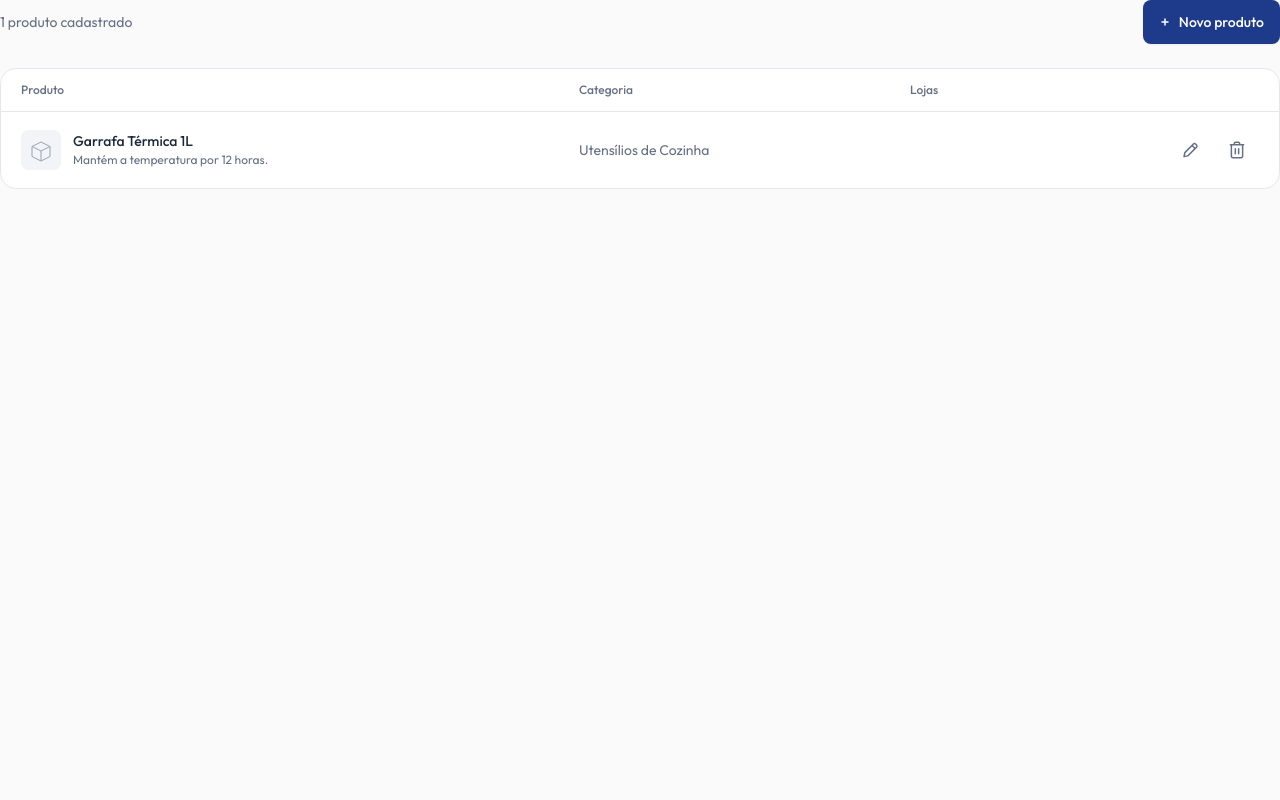
Test: ProductAdminPanel › keeps the product with a message when the api fails to delete it
The width and height of the screenshot is (1280, 800).
Click the button named "Apagar Garrafa Térmica 1L": x=1237, y=150 [1215, 128, 1259, 172]
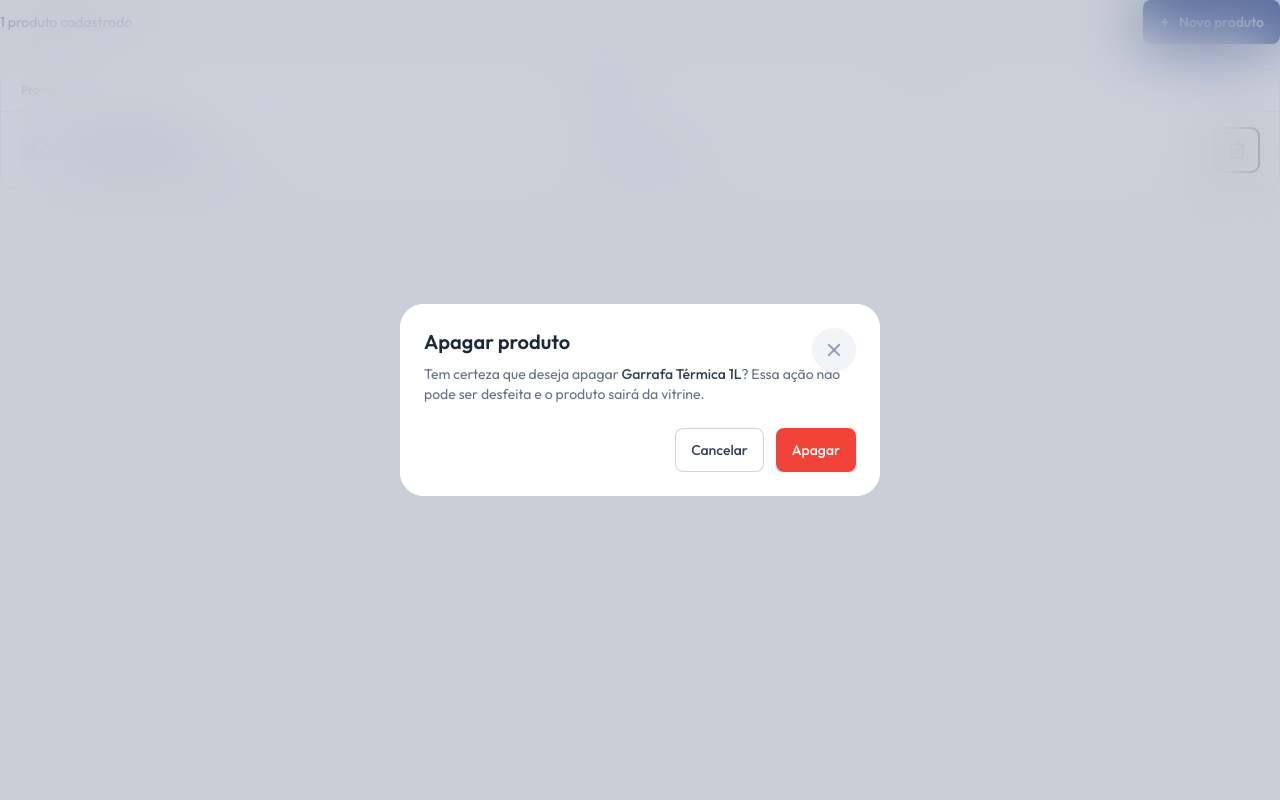
Click the button "Apagar": x=816, y=450 [776, 428, 856, 472]
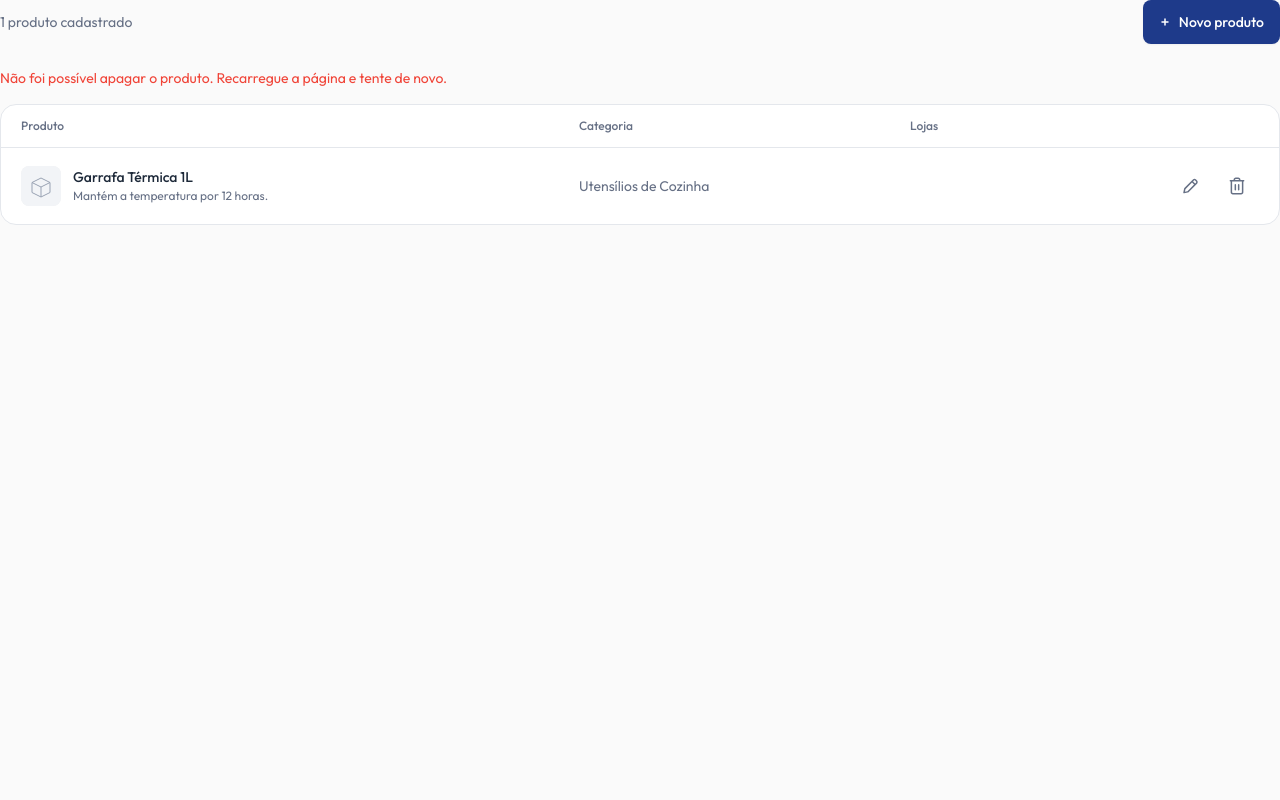
Expected: the link "Garrafa Térmica 1L" is shown, [73, 168, 193, 186]
Expected: the text "Não foi possível apagar o produto. Recarregue a página e tente de novo." is shown, [0, 69, 447, 87]
